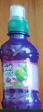blueberries: (1, 5, 41, 109)
